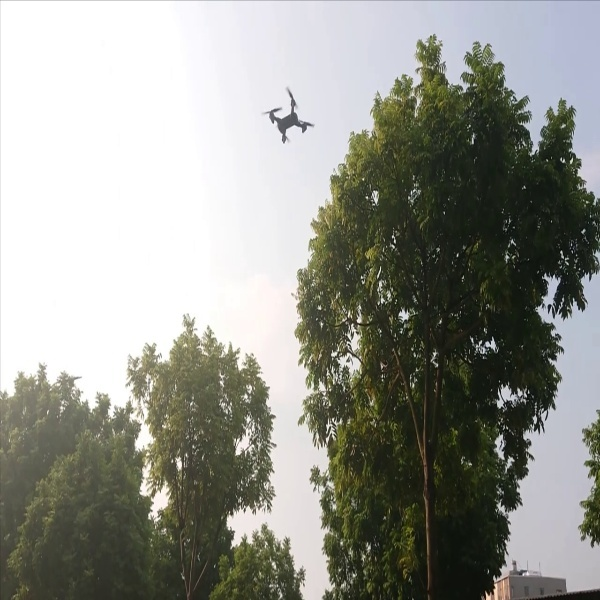drone: (262, 82, 316, 148)
